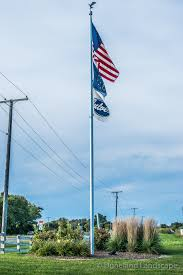Flag: (91, 21, 121, 82), (91, 90, 111, 124), (91, 64, 108, 98)
